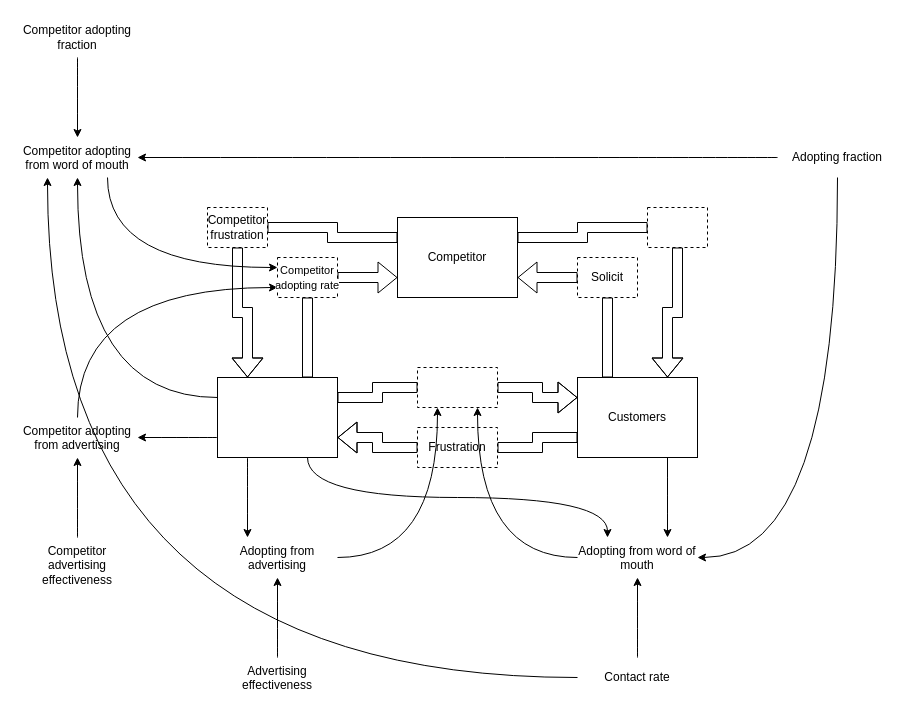
This 914x714 diagram has some shape labels left out. Each missing label, with the centre of its shape:
"Adopting rate" goes at (x=457, y=387).
"Competitor solicit" goes at (x=677, y=227).
"Potential customers" goes at (x=277, y=417).
